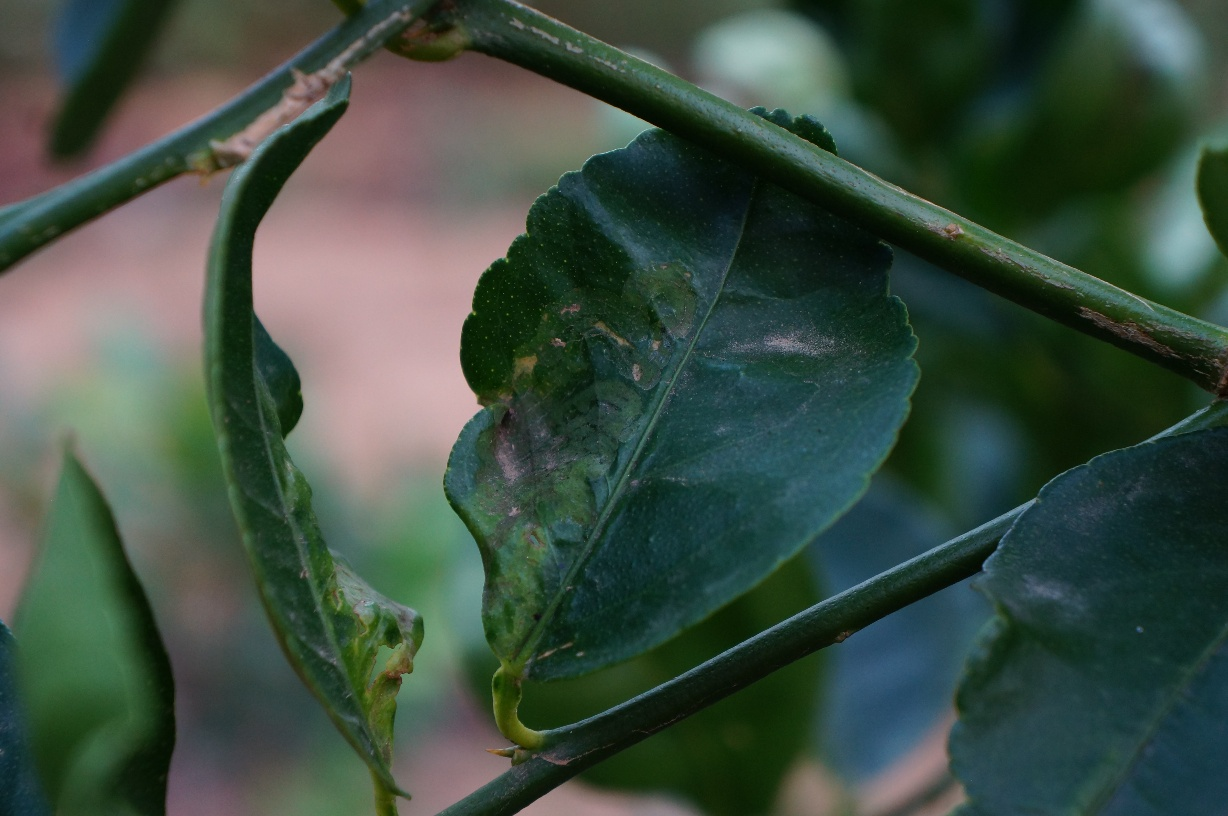damage: (456, 244, 711, 657)
